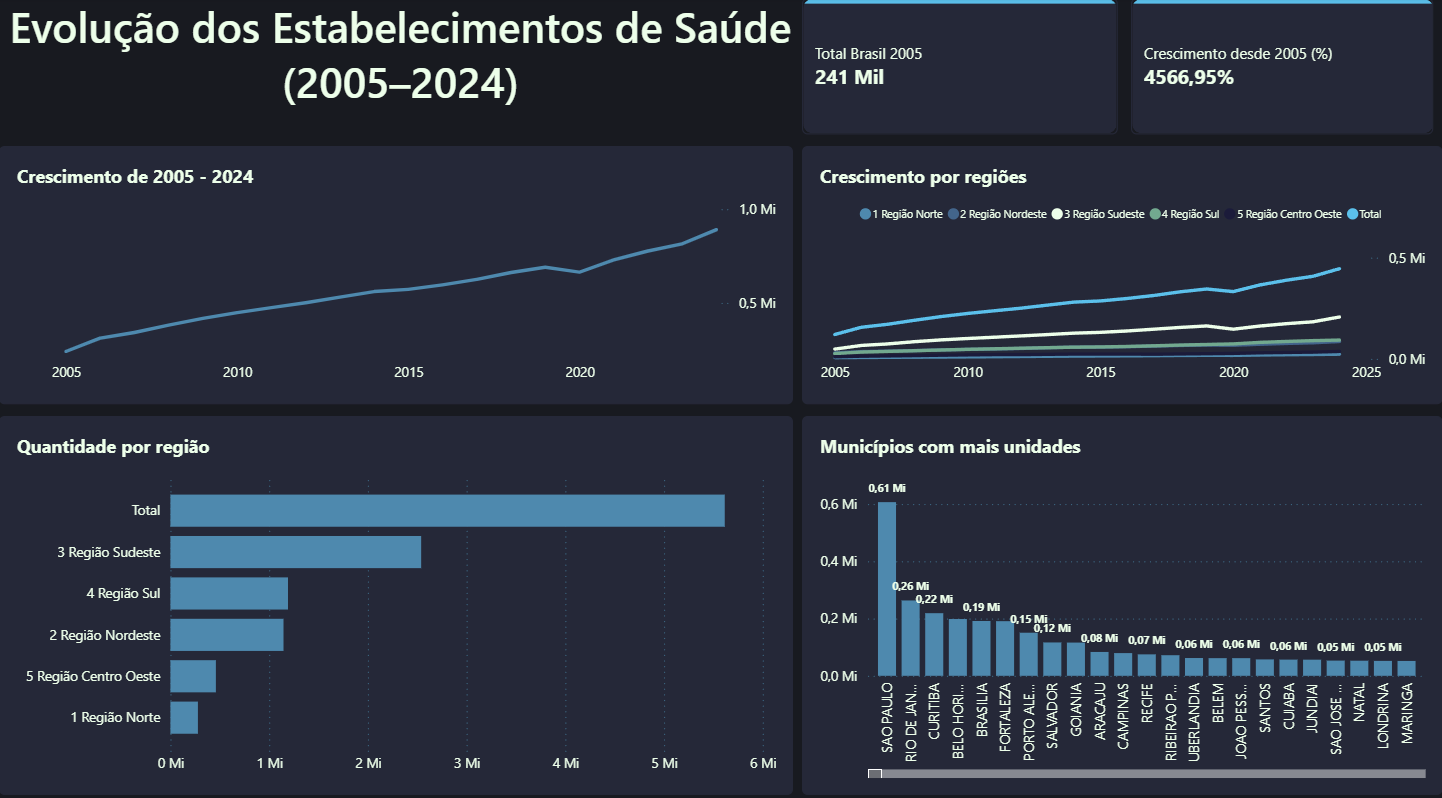

What the dashboard file says about the page in this screenshot:
{"tool":"powerbi","page":{"name":"Página 1","canvas":[1280,720],"ordinal":0},"visuals":[{"type":"textbox","box":[0,0,711.9,120.7],"z":0},{"type":"cardVisual","fields":{"Data":["2005-2024.Total Brasil 2005"]},"box":[711.9,0,279.8,120.7],"z":2000},{"type":"cardVisual","fields":{"Data":["2005-2024.Crescimento desde 2005 (%)"]},"box":[1004.1,0,268.3,120.7],"z":3000},{"type":"lineChart","title":"Crescimento de 2005 - 2024","fields":{"Category":["2005-2024.Ano"],"Y2":["Sum(2005-2024.Quantidade)"]},"box":[0,131.3,704.2,229],"z":4000},{"type":"lineChart","title":"Crescimento por regiões","fields":{"Category":["2005-2024.Ano"],"Y2":["Sum(2005-2024.Quantidade)"],"Series":["2005-2024.Região"]},"box":[711.8,130.9,568.2,229.1],"z":5000},{"type":"clusteredBarChart","title":"Quantidade por região","fields":{"Category":["2005-2024.Região"],"Y":["Sum(2005-2024.Quantidade)"]},"box":[0,370.8,704.2,336.3],"z":6000},{"type":"clusteredColumnChart","title":"Municípios com mais unidades","fields":{"Category":["2005-2024.Município.2"],"Y":["Sum(2005-2024.Quantidade)"]},"box":[711.8,370.9,568.2,336.4],"z":6001}]}

Visuals, with their boxes in screenshot pixels (x1, y1, x2, y2), scaled from the page's 1280x720 canvas onto the 1442x798 screenshot:
textbox: rect(0, 0, 802, 134)
cardVisual - 2005-2024.Total Brasil 2005: rect(802, 0, 1117, 134)
cardVisual - 2005-2024.Crescimento desde 2005 (%): rect(1131, 0, 1433, 134)
"Crescimento de 2005 - 2024" lineChart: rect(0, 146, 793, 399)
"Crescimento por regiões" lineChart: rect(802, 145, 1441, 399)
"Quantidade por região" clusteredBarChart: rect(0, 411, 793, 784)
"Municípios com mais unidades" clusteredColumnChart: rect(802, 411, 1441, 784)
